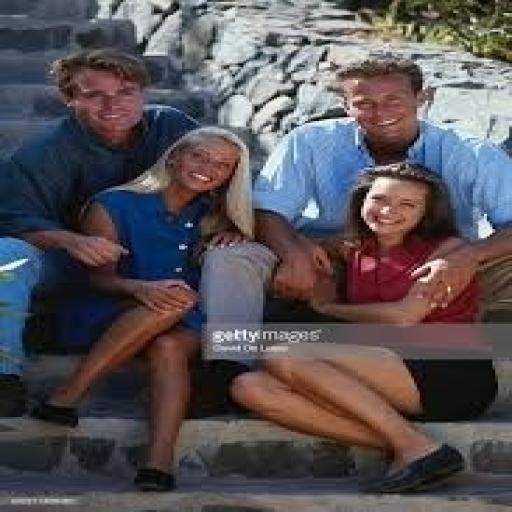sitting: (3, 43, 506, 491), (221, 160, 498, 493), (31, 123, 260, 491)
